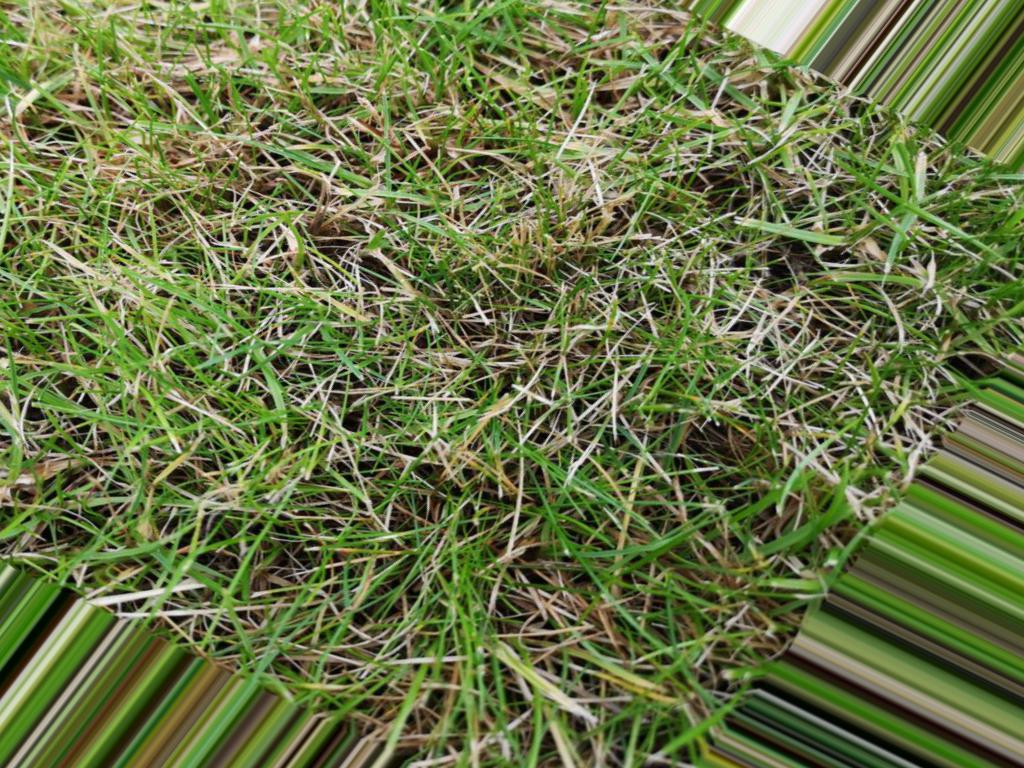patch: (394, 300, 512, 470), (549, 141, 606, 202)
